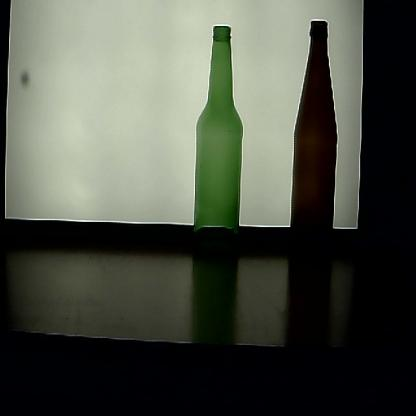Can: (192, 21, 248, 273), (286, 13, 341, 250)
